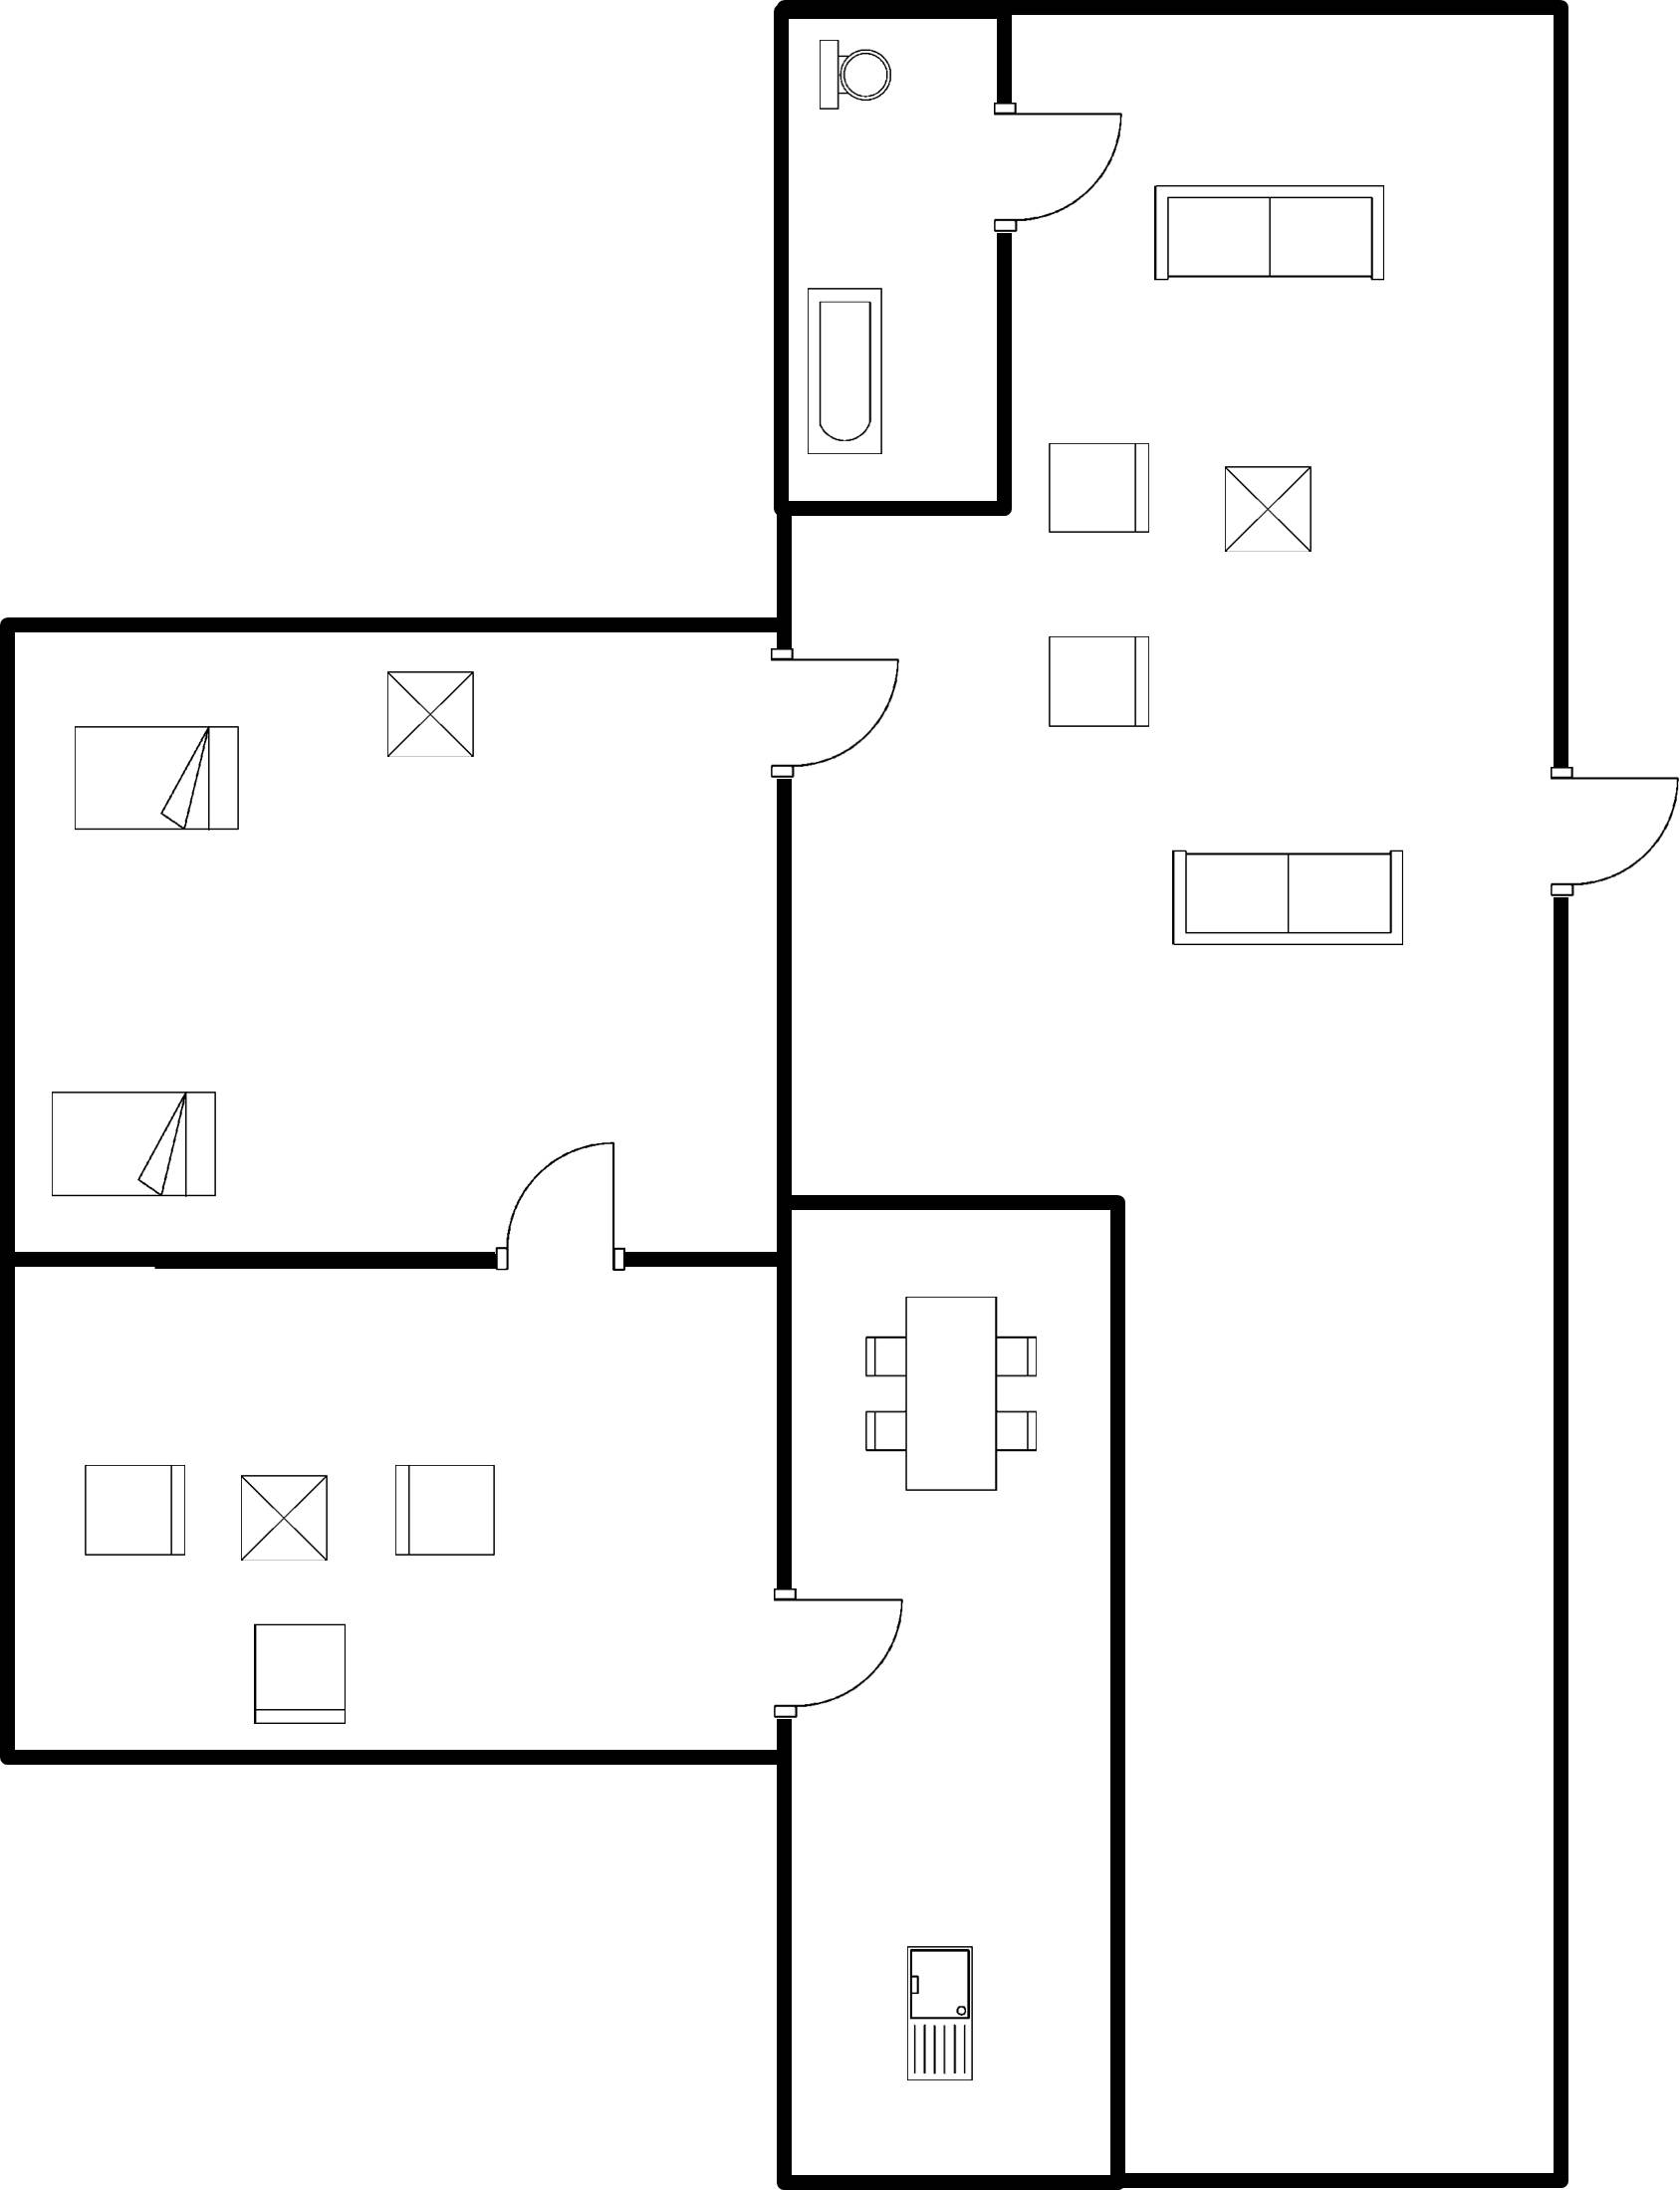bed: (61, 704, 256, 850), (31, 1075, 234, 1213)
coffee_table: (1206, 447, 1329, 568), (366, 657, 494, 774), (228, 1462, 341, 1578)
dining_table: (842, 1283, 1055, 1514)
large_sink: (806, 25, 903, 128)
large_sofa: (1137, 163, 1408, 296), (1156, 833, 1418, 960)
sink: (892, 1932, 988, 2098)
small_sofa: (375, 1449, 512, 1578), (1033, 429, 1165, 549), (70, 1456, 204, 1571), (1038, 620, 1159, 741), (243, 1605, 356, 1735)
tub: (797, 267, 901, 464)
